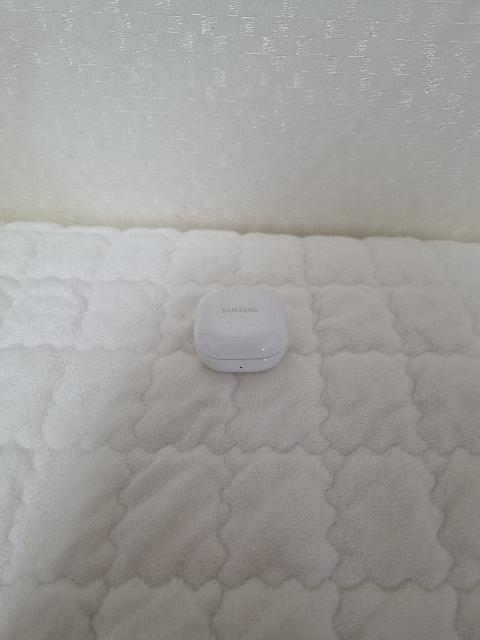earphone_case: (193, 287, 288, 373)
